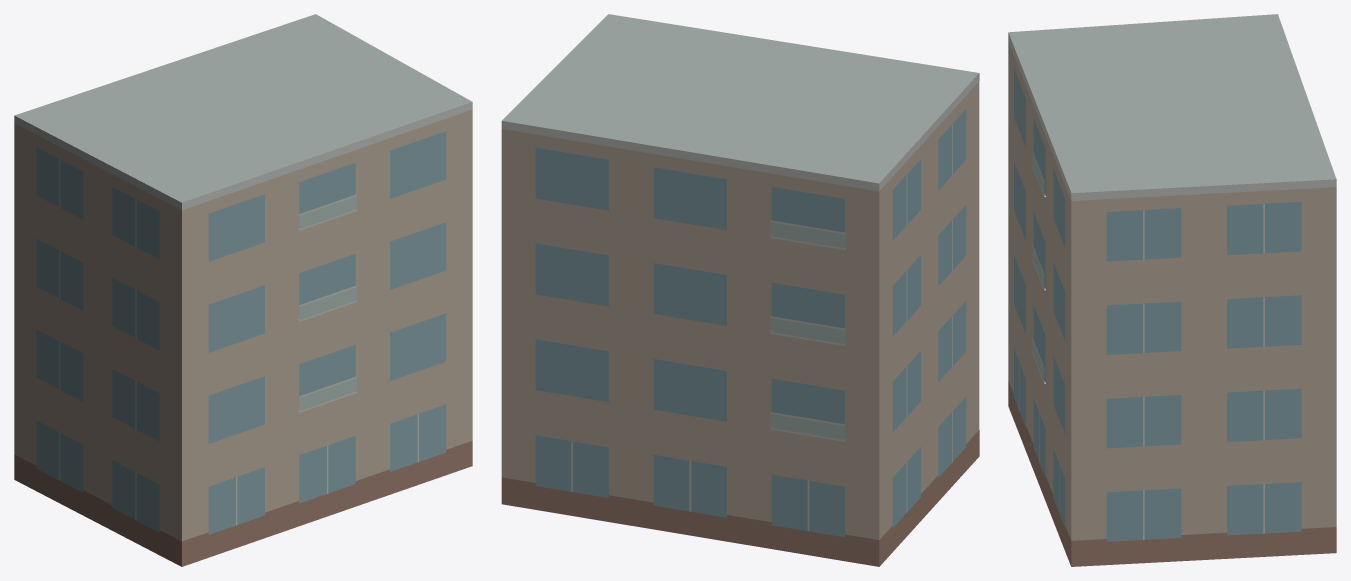
Rendered from survey-upis-32523664.glb.
3 renders of one model, left to right at view 1: azimuth 30°, elevation 25°; view 2: azimuth 150°, elevation 25°; view 3: azimuth 270°, elevation 25°, orthographic. The views are drawn at different scales.
Parts seen in each view (by area): view 1: survey-upis-32523664.tmp; view 2: survey-upis-32523664.tmp; view 3: survey-upis-32523664.tmp.
Part boxes in pixels (x1=…): survey-upis-32523664.tmp: x1=14, y1=14, x2=472, y2=566; survey-upis-32523664.tmp: x1=501, y1=14, x2=979, y2=566; survey-upis-32523664.tmp: x1=1008, y1=14, x2=1336, y2=566.
Bounding box in the file's own units: 12.04 × 11.7 × 9.33.
